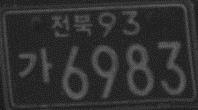3: (156, 40, 187, 95), (120, 8, 140, 36)
6: (61, 44, 90, 101)
8: (125, 42, 155, 98)
9: (89, 44, 121, 99), (98, 11, 116, 38)
가: (16, 47, 53, 86)
전북_O: (51, 11, 93, 38)
